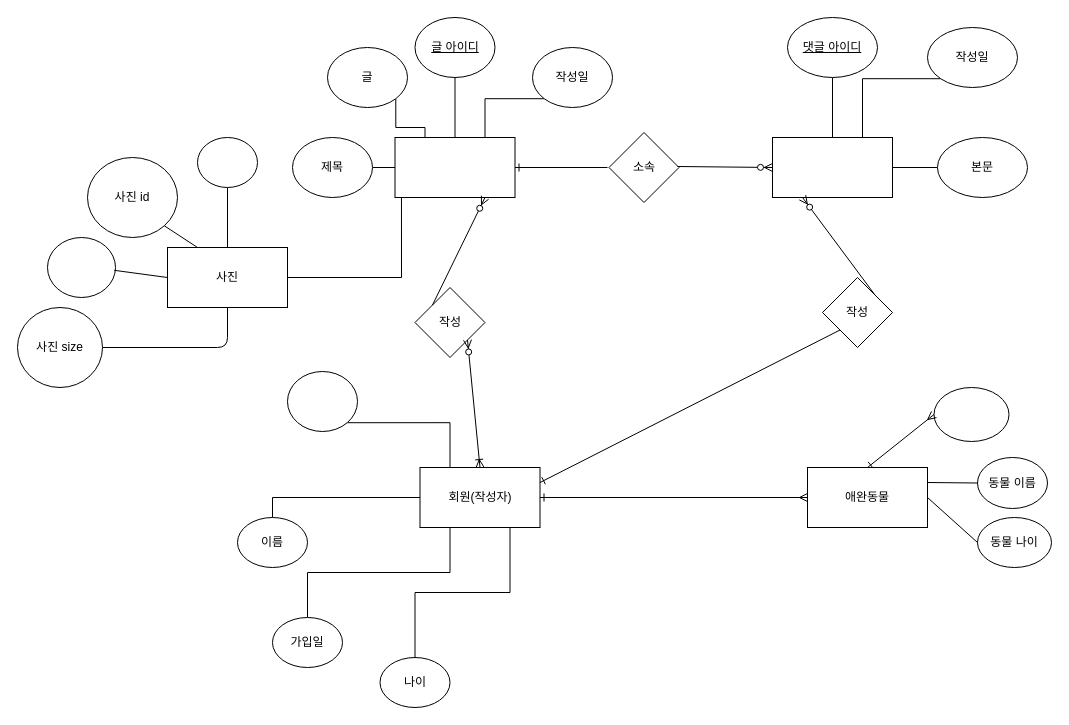
This 1069x725 diagram has some shape labels left out. Each missing label, with the box of its shape:
댓글: (772, 136, 892, 198)
동물 종류: (933, 386, 1009, 442)
사진 url: (196, 136, 258, 188)
사진 이름: (46, 236, 116, 298)
일기(글): (394, 136, 515, 198)
저자 아이디: (286, 370, 358, 432)
